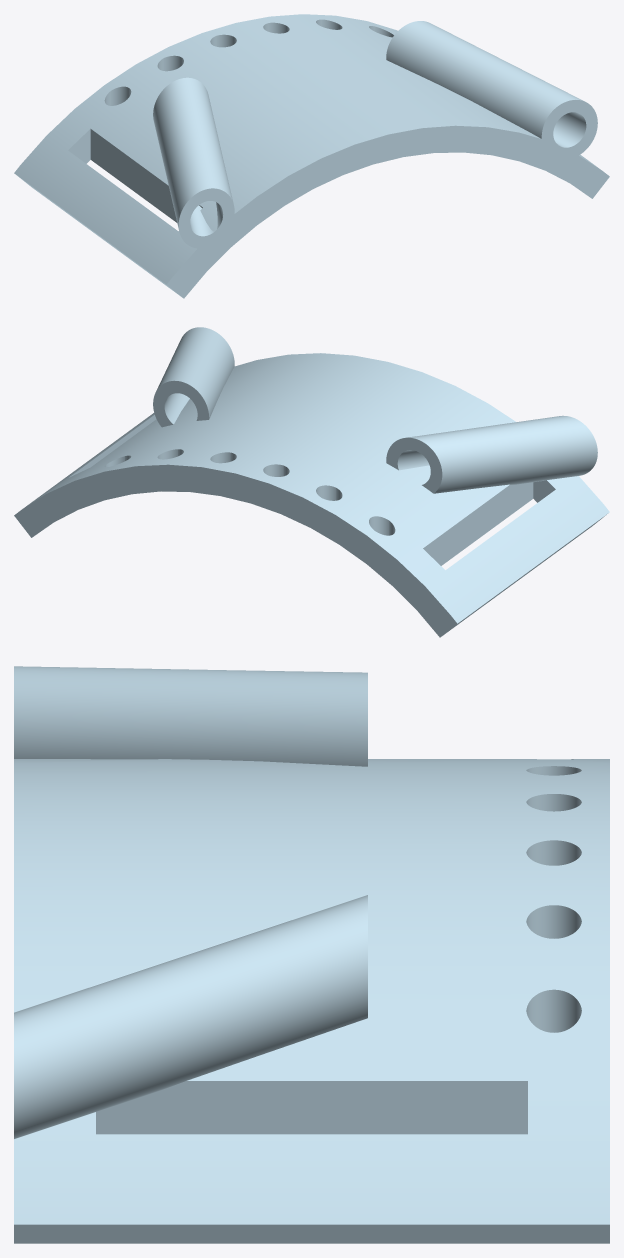
The model's file is wrist_cable_band.gltf.
3 renders of one model, top to bottom at view 1: azimuth 30°, elevation 25°; view 2: azimuth 150°, elevation 25°; view 3: azimuth 270°, elevation 25°, orthographic. The views are drawn at different scales.
Visible parts, largest first — view 1: Part 1; view 2: Part 1; view 3: Part 1.
Boxes of the visible parts, x1=… form: Part 1: x1=14, y1=14, x2=609, y2=298; Part 1: x1=14, y1=327, x2=609, y2=637; Part 1: x1=14, y1=666, x2=609, y2=1243.
Size of the model in its own units: 0.0682 by 0.0195 by 0.0406.
